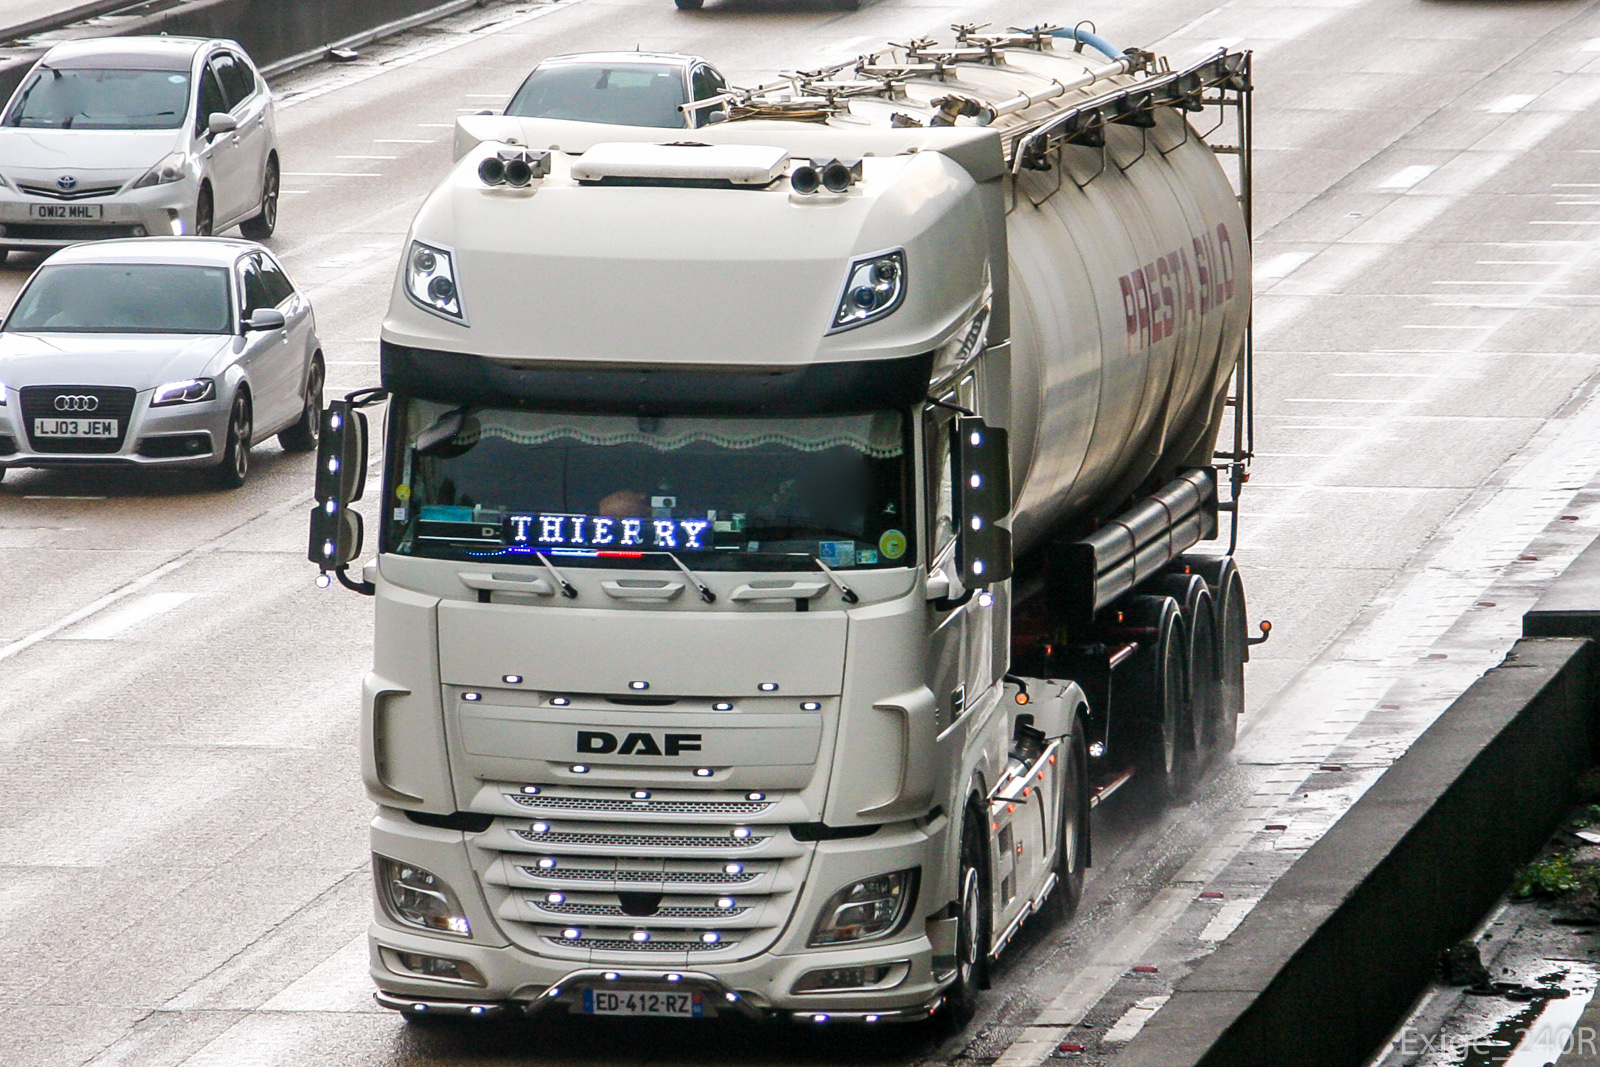licence plate: (580, 983, 705, 1024)
